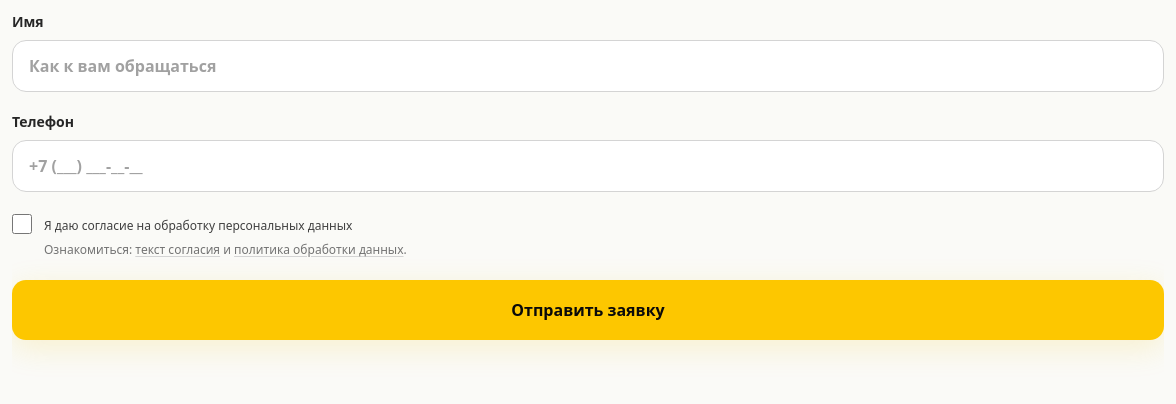
Test: EnrollmentForm › rejects an invalid telephone number with an accessible error
The width and height of the screenshot is (1176, 404).
Type "Илья" into the field labelled "Имя" at [588, 66], box x1=12 y1=40 x2=1164 y2=92
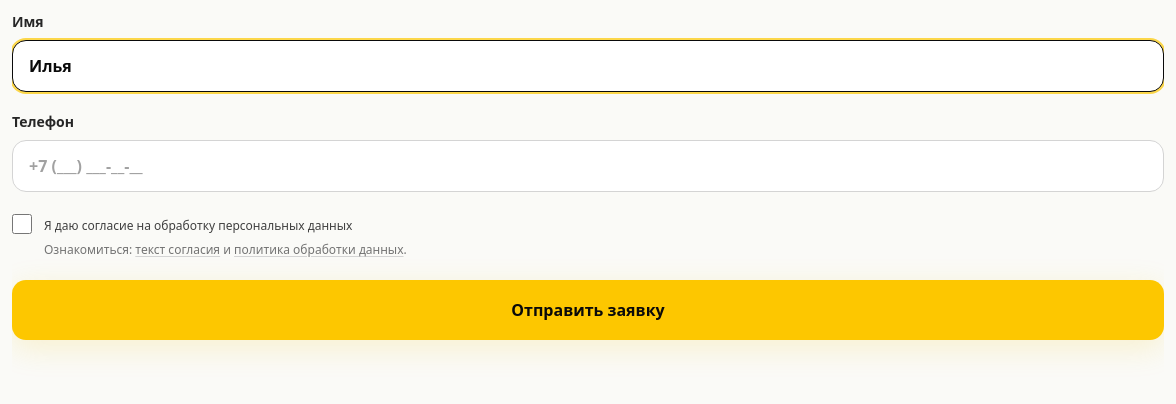
Type "123" into the field labelled "Телефон" at [588, 166], box x1=12 y1=140 x2=1164 y2=192
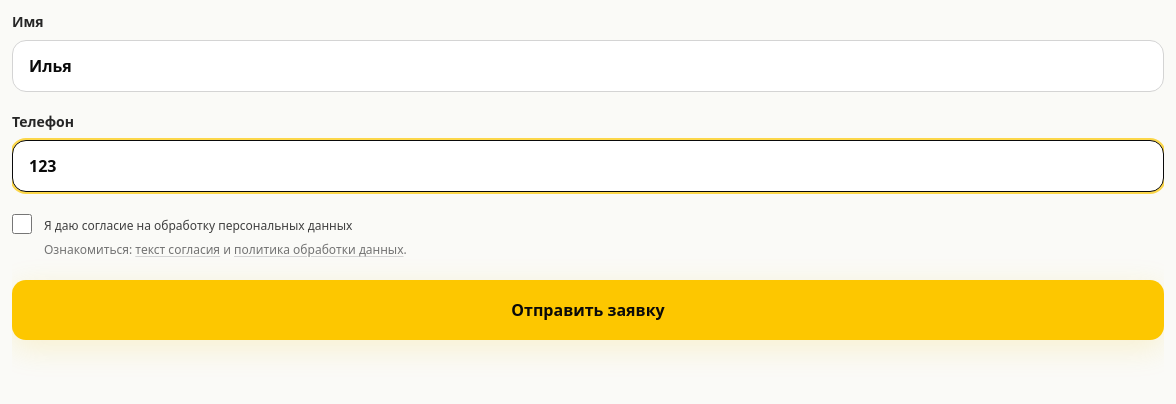
Click the button "Отправить заявку" at [588, 310], box x1=12 y1=280 x2=1164 y2=340
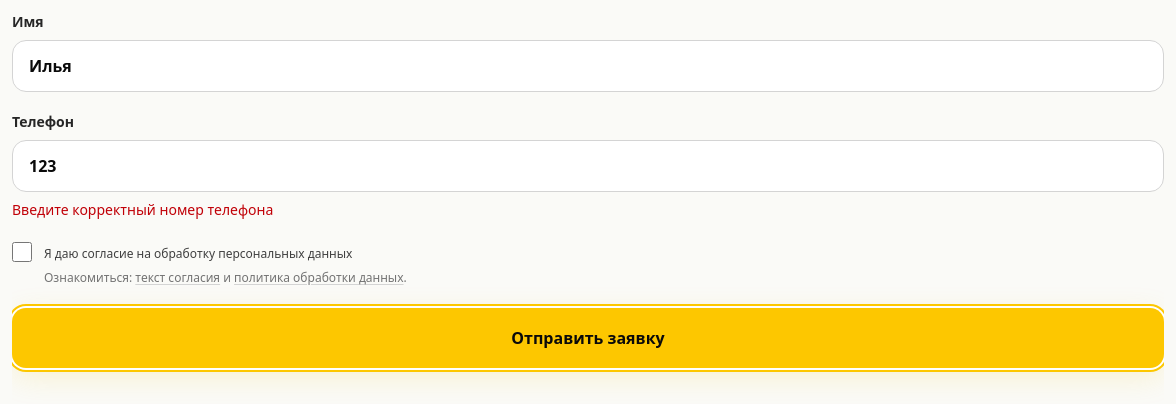
Now the message reads "Введите корректный номер телефона", box x1=12 y1=200 x2=273 y2=219
